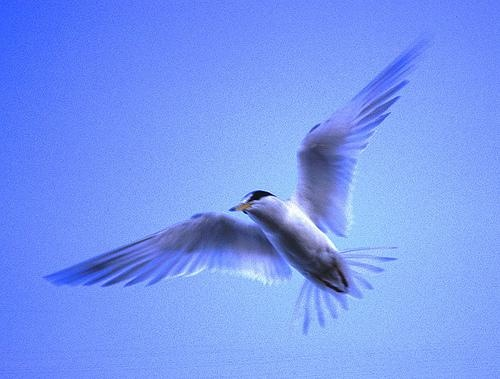bird: (41, 31, 431, 323)
